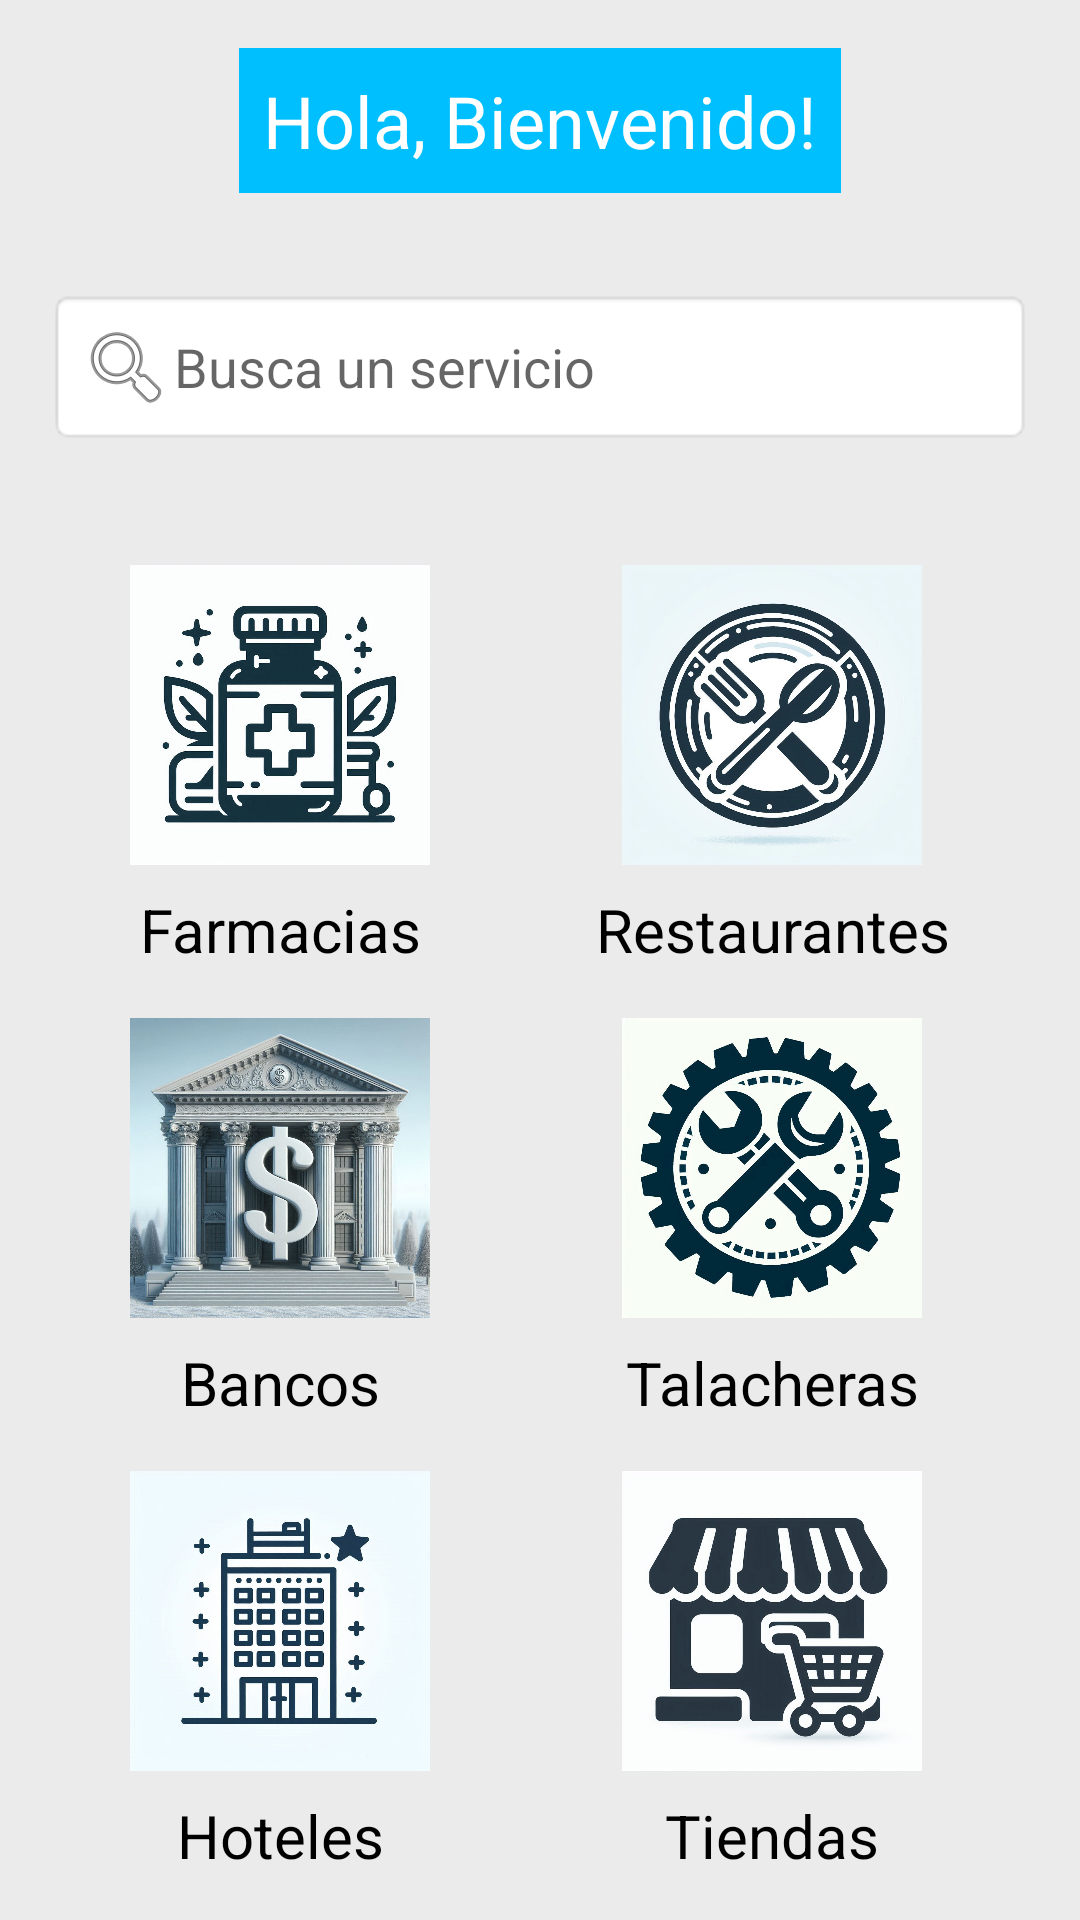

Locate icon controls on the screen. Image size 1080 x 1920, boxes as bbox(x1, y1, x2, y2).
Mecánicos: bbox(622, 1018, 922, 1318)
